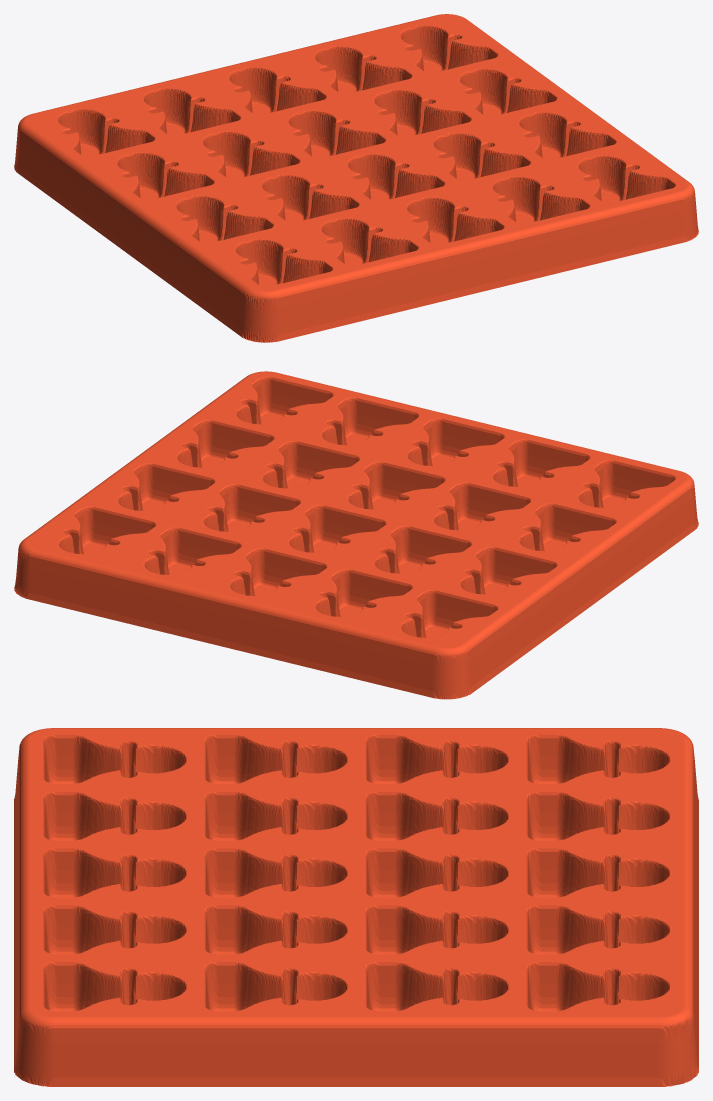
File: mold.glb
3 views of the same model, one above another, from view 1: azimuth 30°, elevation 25°; view 2: azimuth 150°, elevation 25°; view 3: azimuth 270°, elevation 25° (orthographic). The views are drawn at different scales.
Parts seen in each view (by area): view 1: geometry_0; view 2: geometry_0; view 3: geometry_0.
Boxes of the visible parts, <box> form: geometry_0: <box>14,14,698,342</box>; geometry_0: <box>14,371,698,699</box>; geometry_0: <box>14,728,698,1086</box>.
Size of the model in its own units: 0.1627 by 0.0159 by 0.1563.
